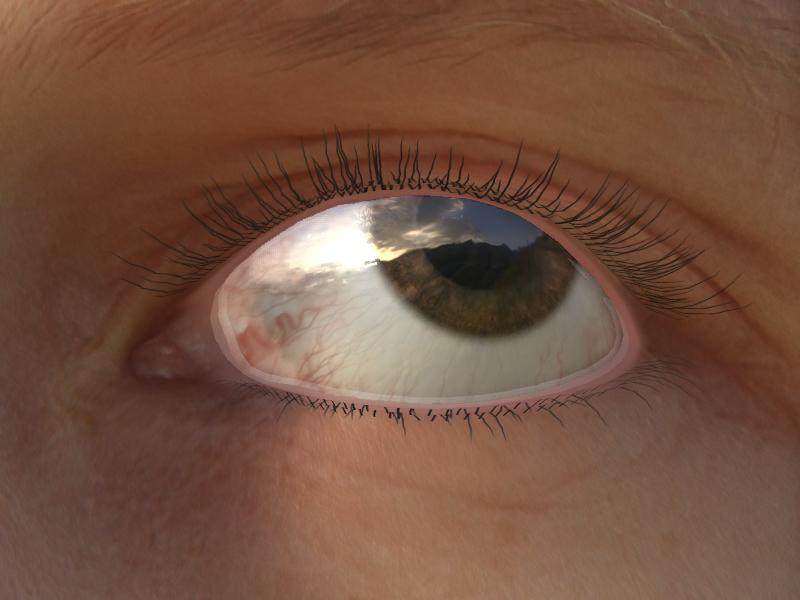eye: (367, 187, 578, 343)
